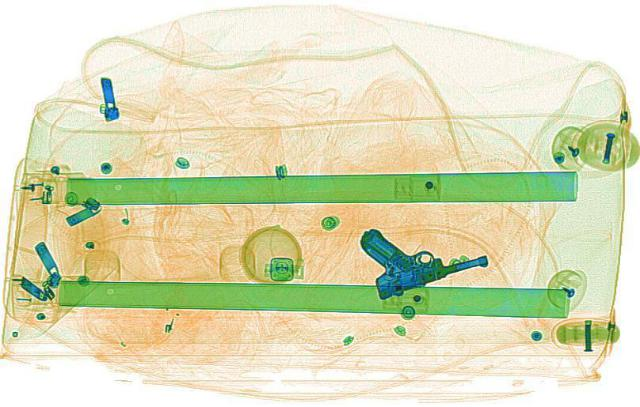Gun: (344, 210, 496, 298)
